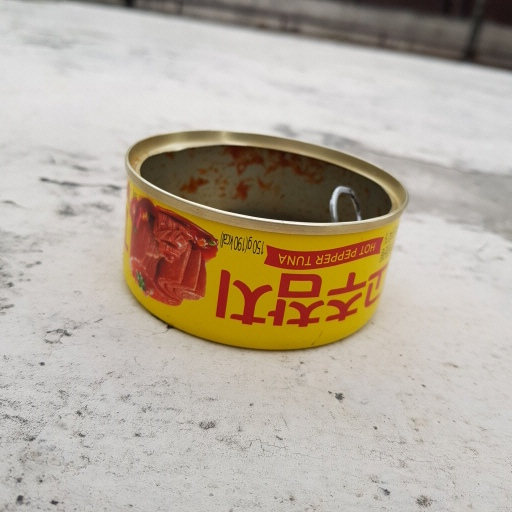Metal_1: (118, 126, 410, 355)
